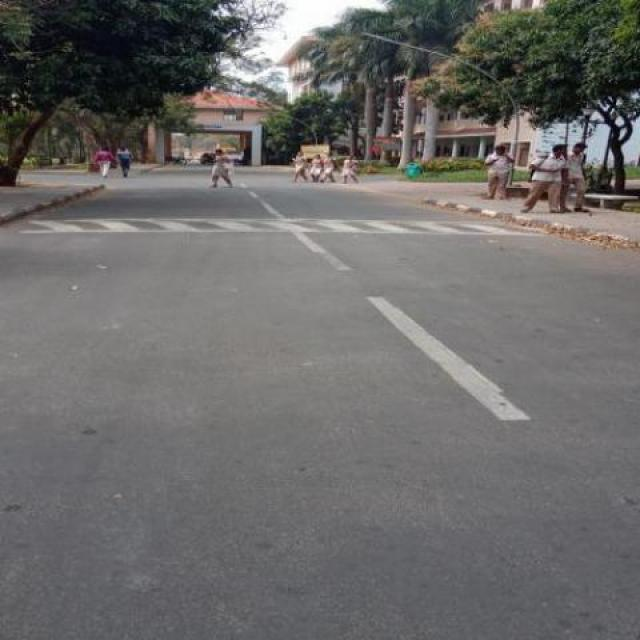Speed Bump: (21, 216, 540, 233)
